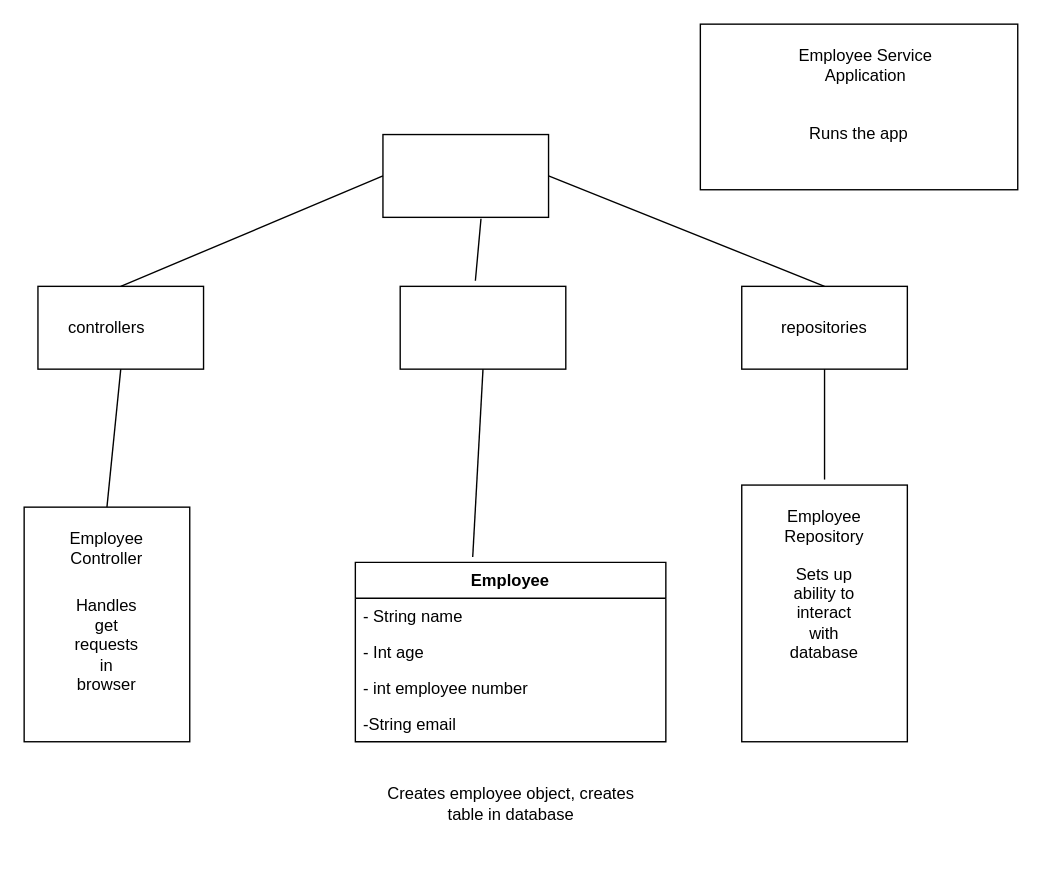
Some shapes in this 1042 by 890 pixel diagram are drawn without their labels. The centre of each missing label's shape, as x and y in pixels:
Employee Service: point 465,175
models: point 482,327
